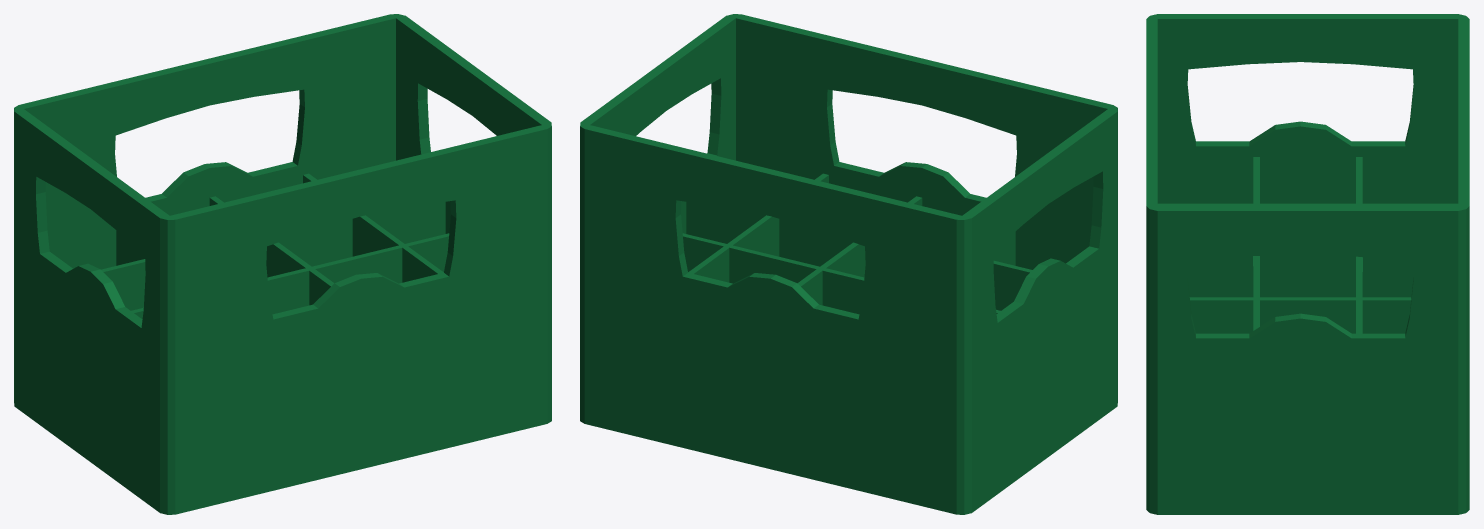
File: krata_piwa.fbx
3 renders of one model, left to right at view 1: azimuth 30°, elevation 25°; view 2: azimuth 150°, elevation 25°; view 3: azimuth 270°, elevation 25°, orthographic. The views are drawn at different scales.
Visible parts, largest first — view 1: Krata_piwa_LOD0; view 2: Krata_piwa_LOD0; view 3: Krata_piwa_LOD0.
Part boxes in pixels (x1,y1,x2,y2): Krata_piwa_LOD0: (14, 14, 551, 514); Krata_piwa_LOD0: (580, 14, 1117, 514); Krata_piwa_LOD0: (1146, 14, 1469, 514).
Size of what is drawn, in the model's own units: 0.5883 by 0.4232 by 0.4077.
